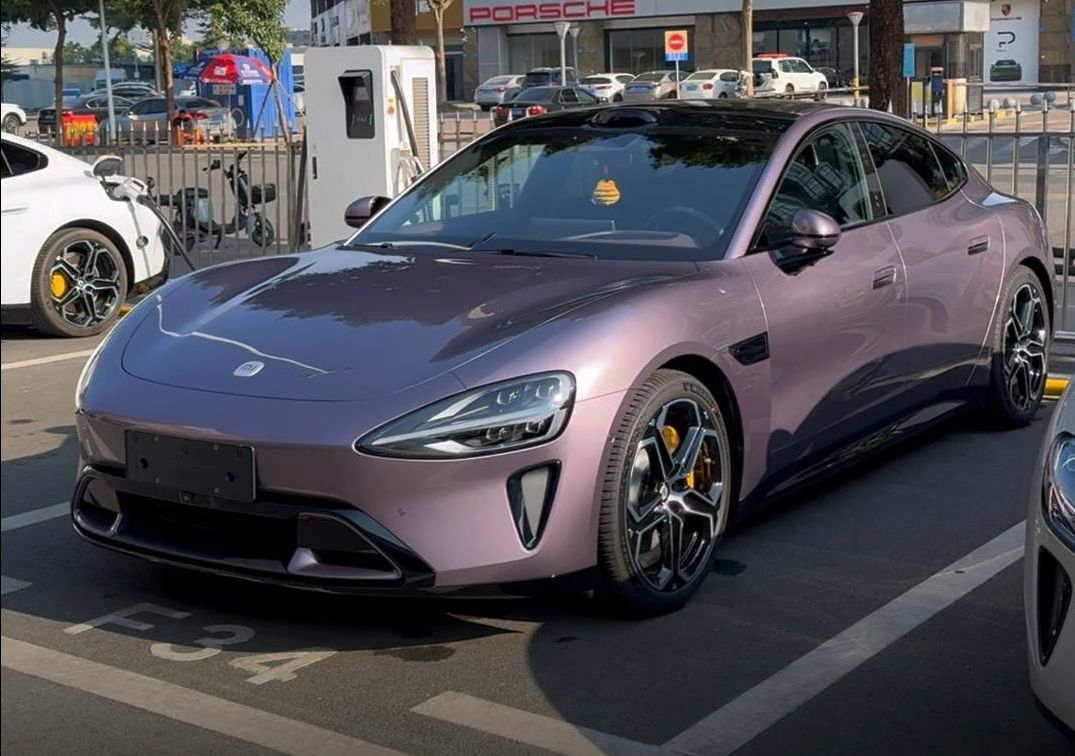other: (738, 53, 832, 98), (678, 65, 746, 101), (476, 68, 532, 105), (626, 70, 687, 101), (580, 72, 633, 96)
su7: (78, 99, 1062, 620)
